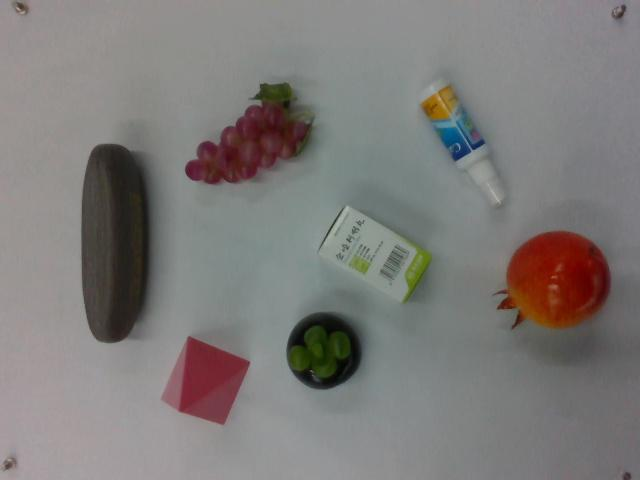carton: (316, 203, 431, 304)
detergent: (414, 77, 511, 207)
glassescase: (83, 141, 148, 345)
grape: (184, 79, 315, 191)
mangosteen: (286, 310, 363, 391)
pomegranate: (496, 231, 614, 333)
pyramid: (158, 334, 252, 429)
